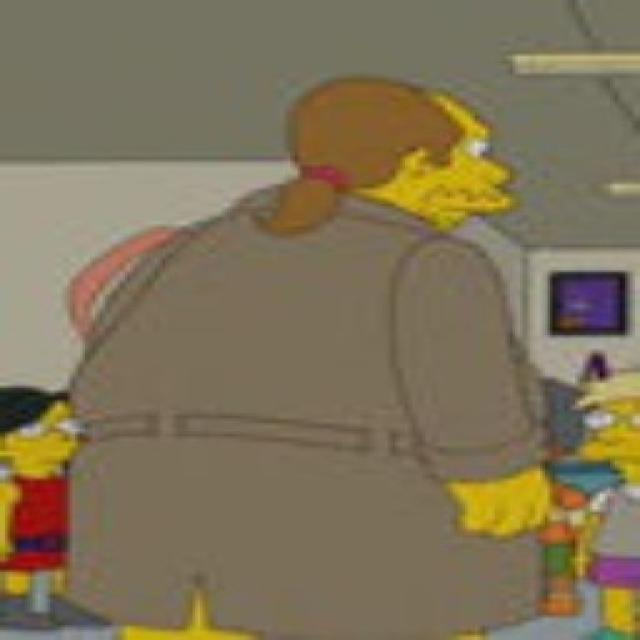Comic Book Guy: (281, 74, 524, 235)
